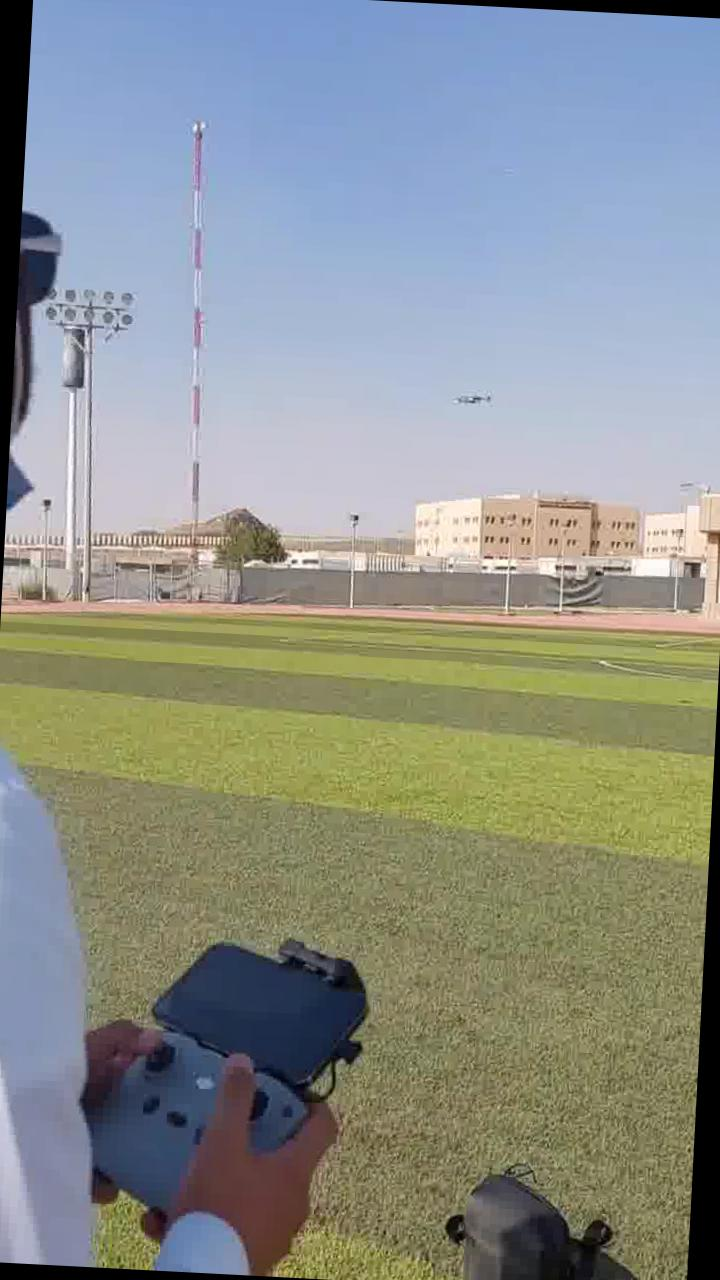drone: (445, 380, 503, 416)
